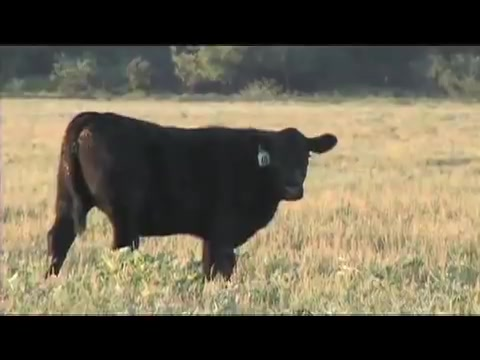cow: (45, 111, 340, 286)
